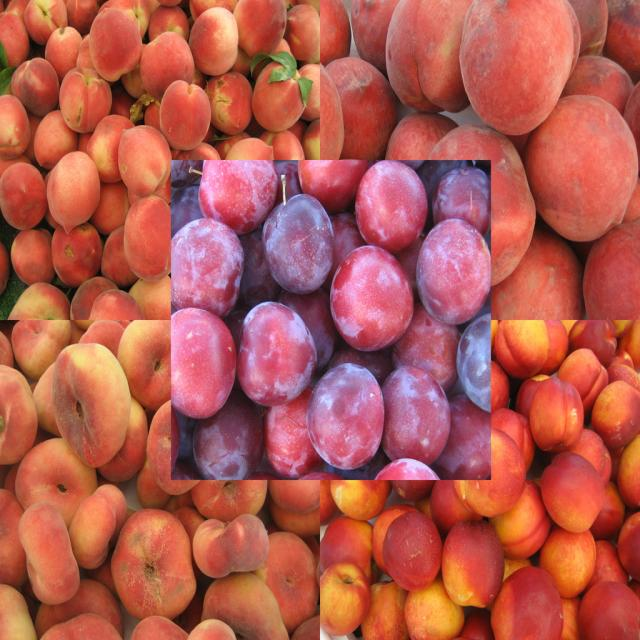Peach: (0, 318, 320, 640), (320, 0, 640, 322), (322, 320, 640, 640), (0, 0, 319, 318), (353, 159, 430, 254)
